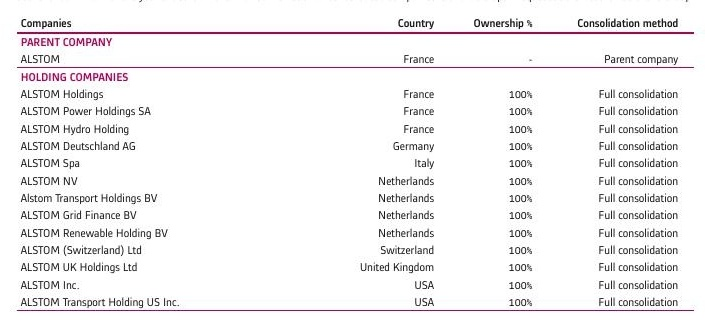table: (0, 0, 705, 325)
